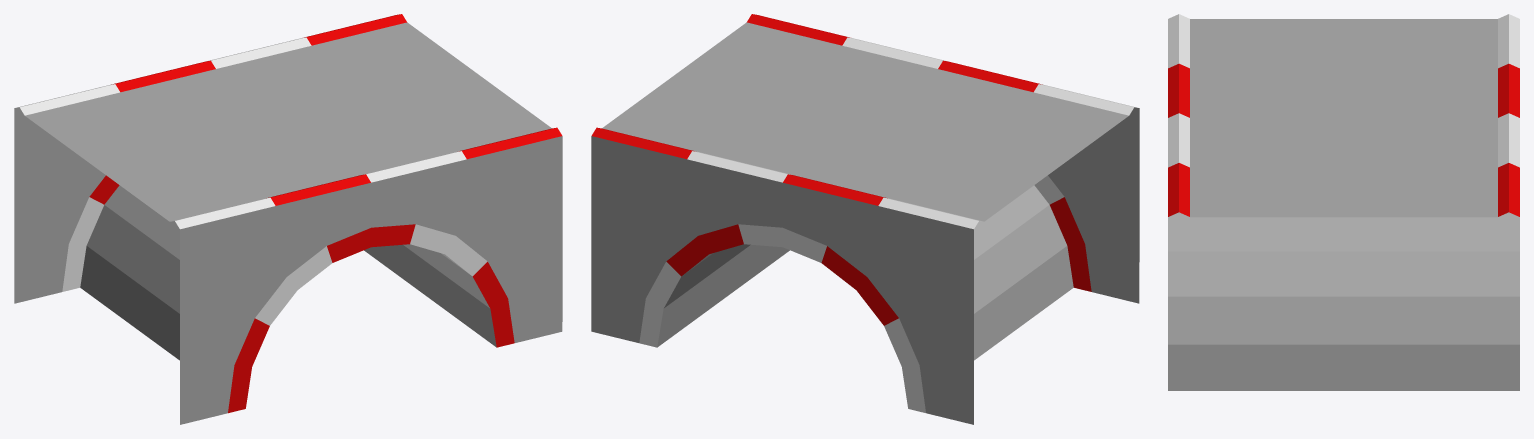
Rendered from Road_tunel_bridge.fbx.
The picture shows the model from 3 angles, left to right: view 1: azimuth 30°, elevation 25°; view 2: azimuth 150°, elevation 25°; view 3: azimuth 270°, elevation 25°; orthographic projection. The views are drawn at different scales.
Visible parts, largest first — view 1: Road_Tunel_bridge; view 2: Road_Tunel_bridge; view 3: Road_Tunel_bridge.
Boxes of the visible parts, <box> form: Road_Tunel_bridge: <box>14,14,562,424</box>; Road_Tunel_bridge: <box>591,14,1139,424</box>; Road_Tunel_bridge: <box>1168,14,1519,390</box>.
Size of the model in its own units: 300 by 150 by 225.
